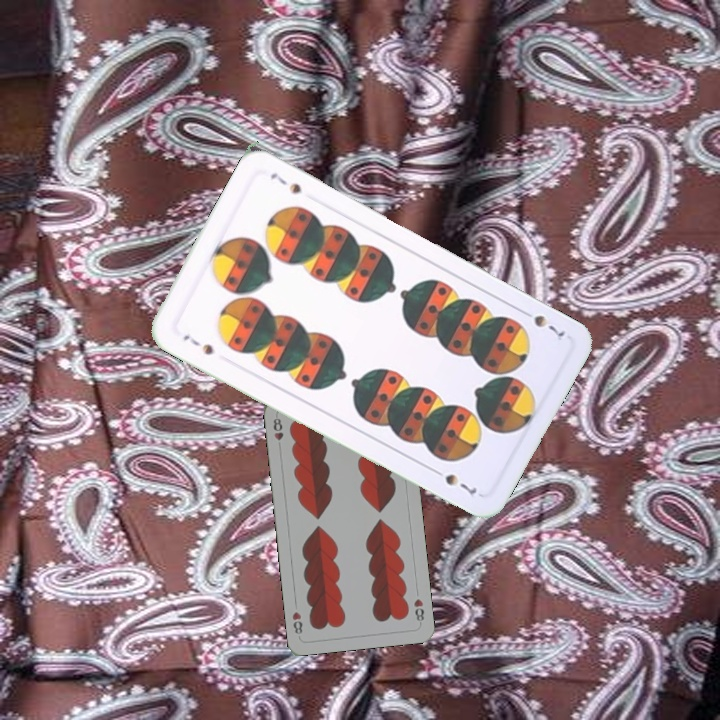H8: (269, 411, 286, 443), (410, 595, 427, 627)
S7: (516, 305, 568, 340), (179, 330, 216, 358)
